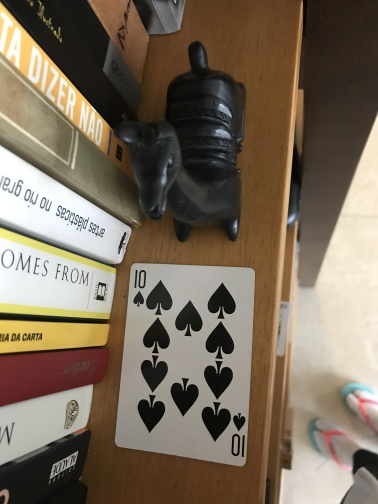ten: (113, 262, 257, 467)
